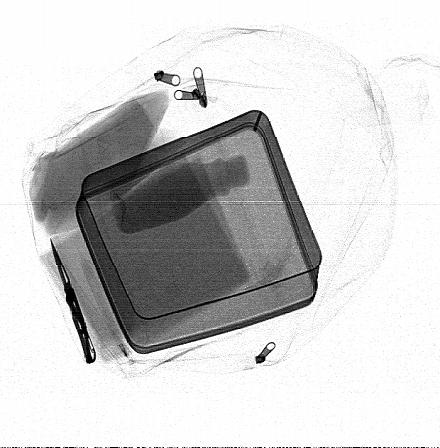Knife: (49, 235, 97, 365)
